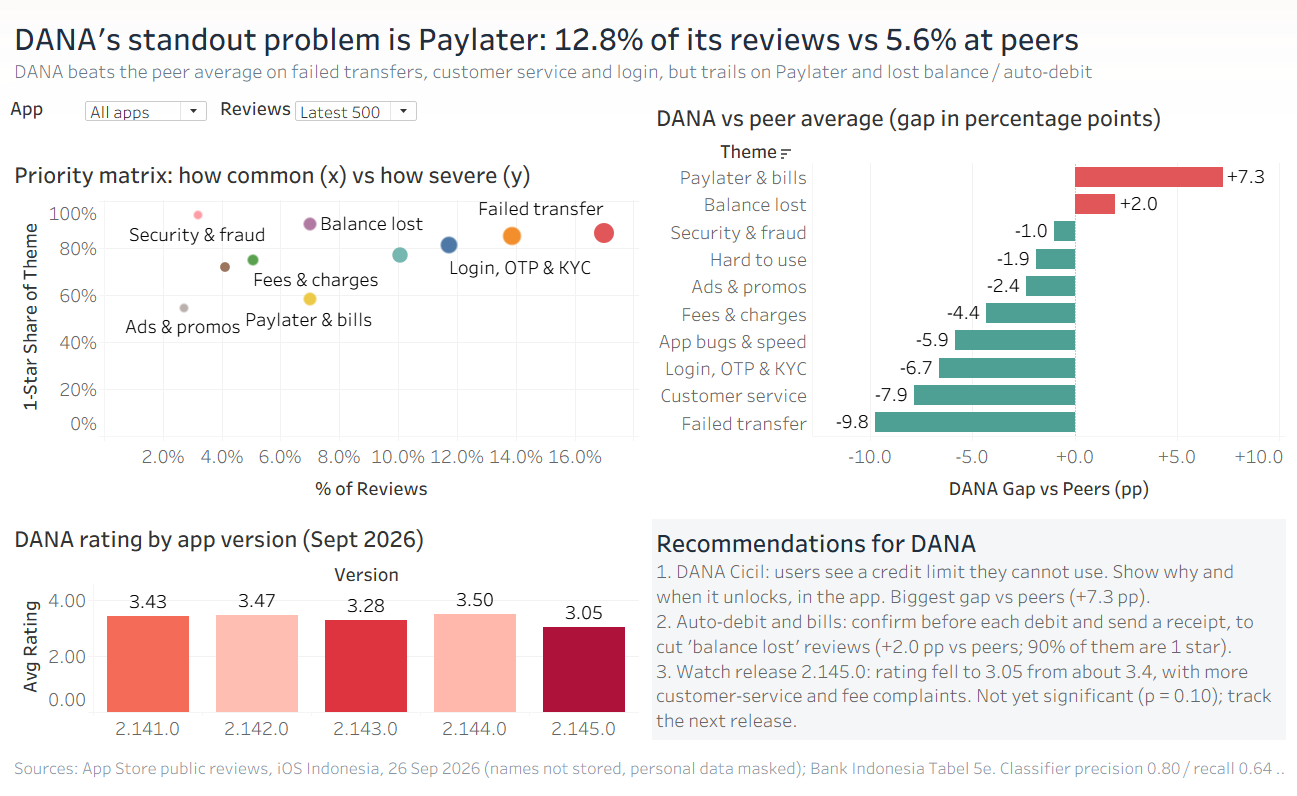

The page's visual inventory and layout, read from the dashboard file:
{"tool":"tableau","page":{"name":"3 Priorities for DANA","canvas":[1300,800],"ordinal":2},"visuals":[{"type":"text","box":[8,4.8,1284,84.8]},{"type":"parameter","param":"[Parameters].[Parameter 1]","box":[8,91.2,208,56]},{"type":"parameter","param":"[Parameters].[Parameter 2]","box":[218.4,91.2,208,56]},{"type":"worksheet","title":"DANA vs peers","mark":"Bar","rows":["Theme"],"cols":["Calc_Gap"],"box":[650,91.2,642,420.8]},{"type":"worksheet","title":"Priority matrix","mark":"Circle","rows":["Calc_Severity"],"cols":["Calc_Share"],"box":[8,148.8,637,363.2]},{"type":"worksheet","title":"DANA by app version","mark":"Bar","rows":["Calc_AvgRating"],"cols":["Version"],"box":[8,516,637,232]},{"type":"text","box":[650,516,642,232]},{"type":"text","box":[8,748,1284,48]}]}

Visuals, with their boxes in screenshot pixels (x1, y1, x2, y2), scaled from the page's 1300x800 canvas onto the 1297x796 screenshot:
text: 8 5 1289 89
parameter: 8 91 216 146
parameter: 218 91 425 146
"DANA vs peers" worksheet (Bar marks): 648 91 1289 509
"Priority matrix" worksheet (Circle marks): 8 148 644 509
"DANA by app version" worksheet (Bar marks): 8 513 644 744
text: 648 513 1289 744
text: 8 744 1289 792
